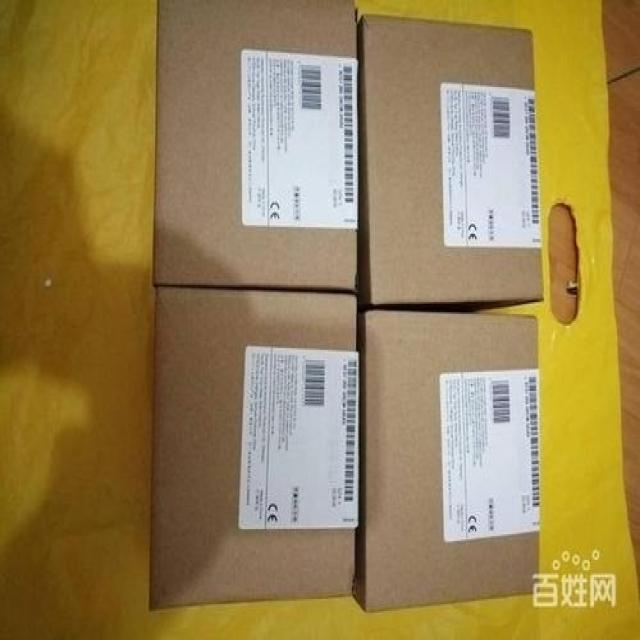box: (148, 287, 360, 611), (154, 0, 358, 292), (355, 311, 540, 614), (358, 14, 543, 311)
